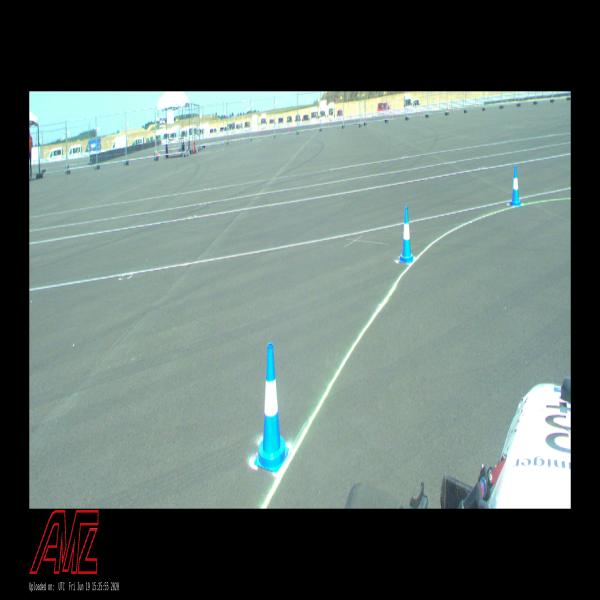blue_cone: (254, 343, 289, 472), (399, 208, 414, 264), (510, 166, 521, 206)
